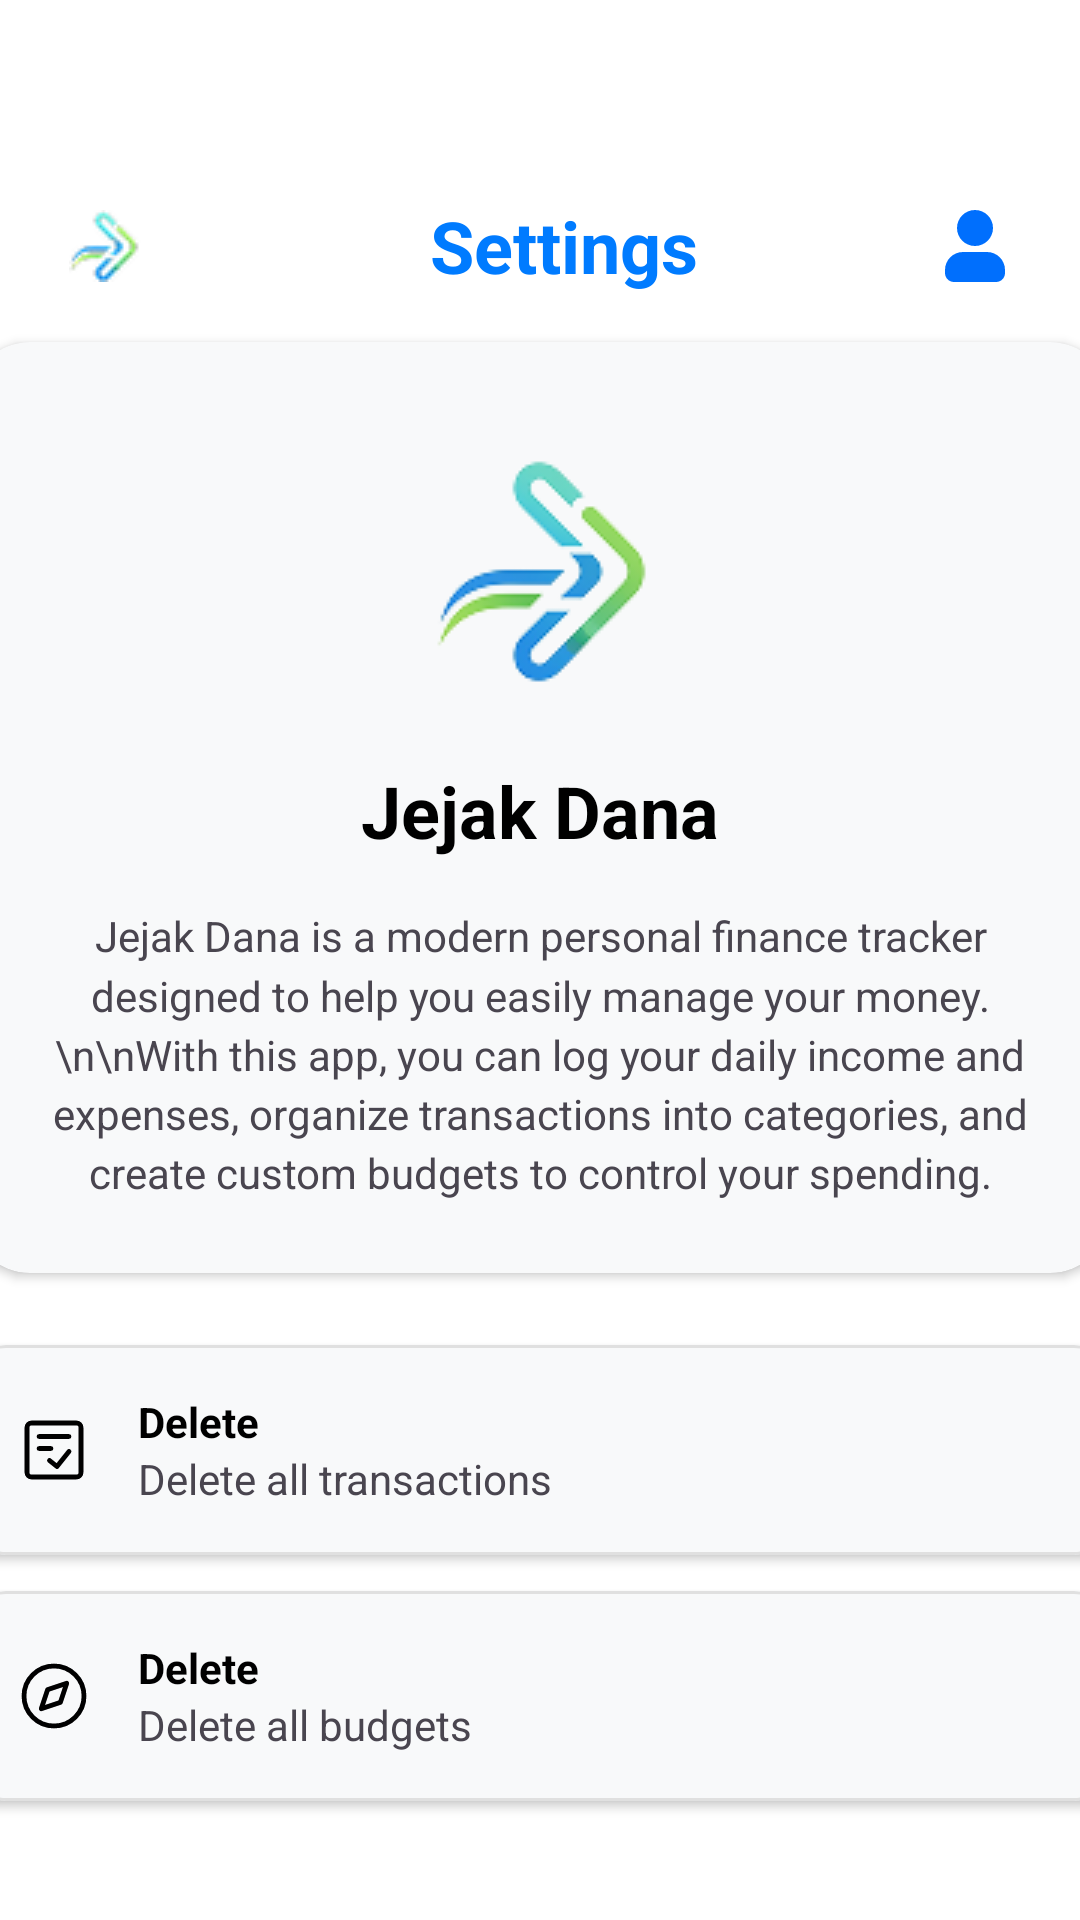

Point at icon controls on the screen. Image size 1080x1920, points as (x,y).
profile: (975,246)
